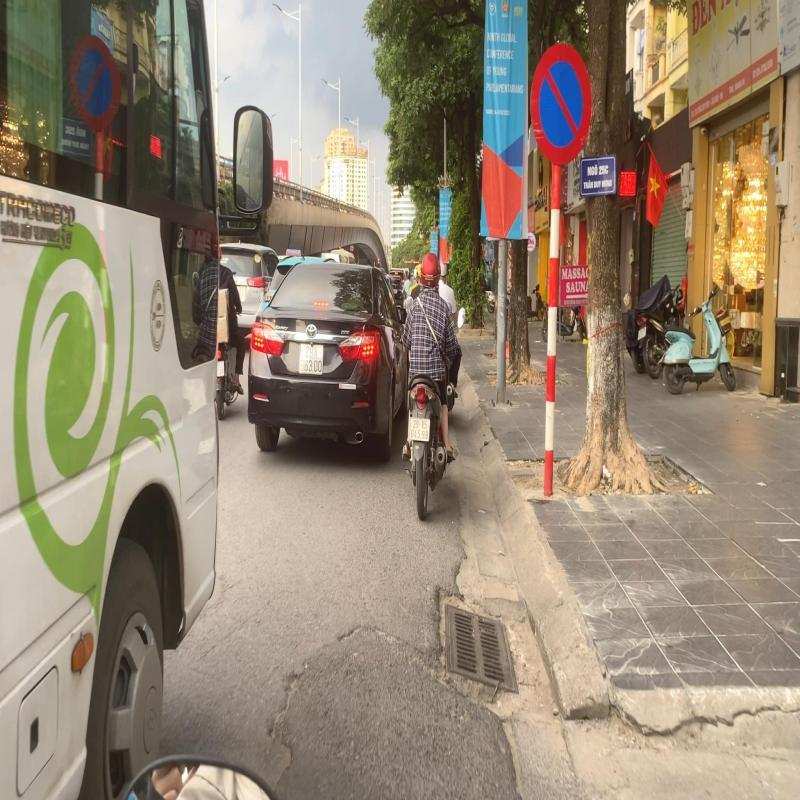helmet: (418, 251, 442, 290)
licenseplate: (409, 416, 431, 442)
motorcyclist: (399, 247, 462, 528)
